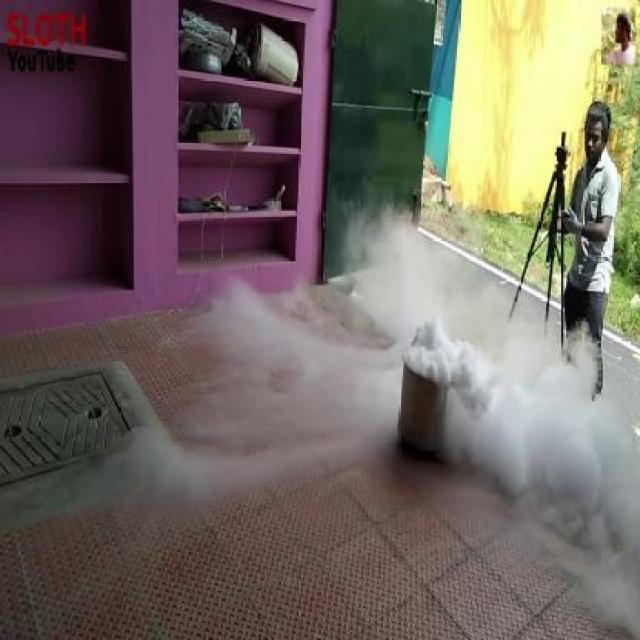smoke: (403, 290, 600, 578)
